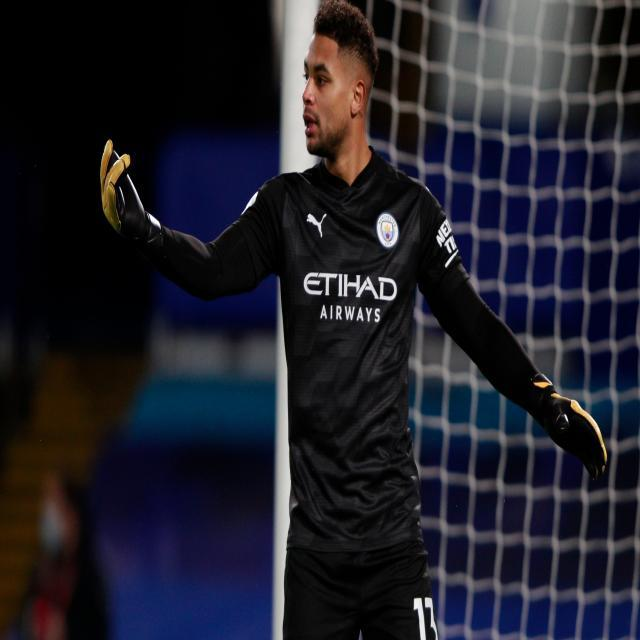Etihad Airways: (304, 268, 398, 323)
Puma: (303, 209, 328, 240)
